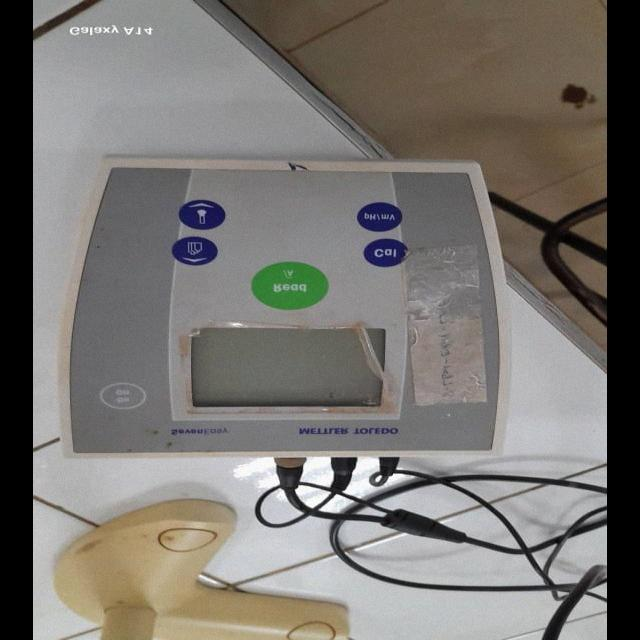PH meter: (59, 150, 498, 458)
